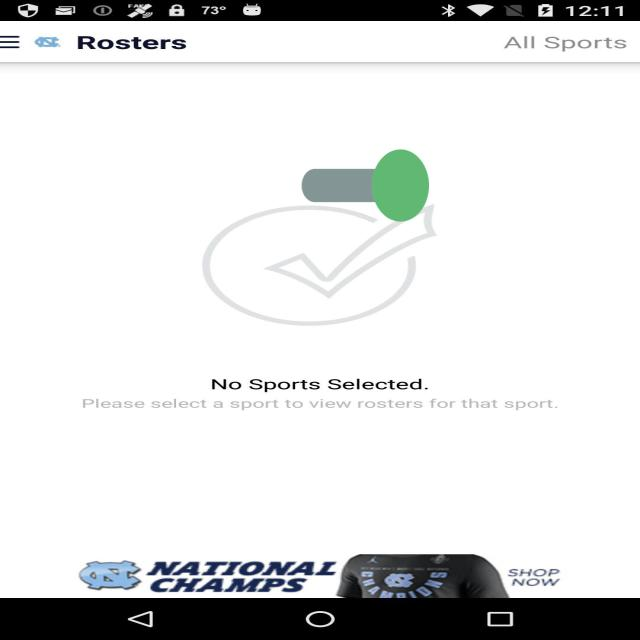social proof: (302, 105, 429, 266)
